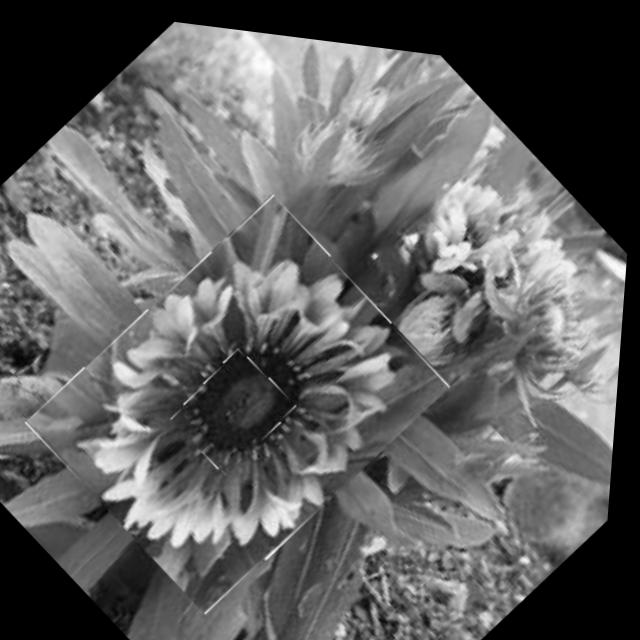Flower: (22, 163, 467, 633), (170, 334, 307, 478)
